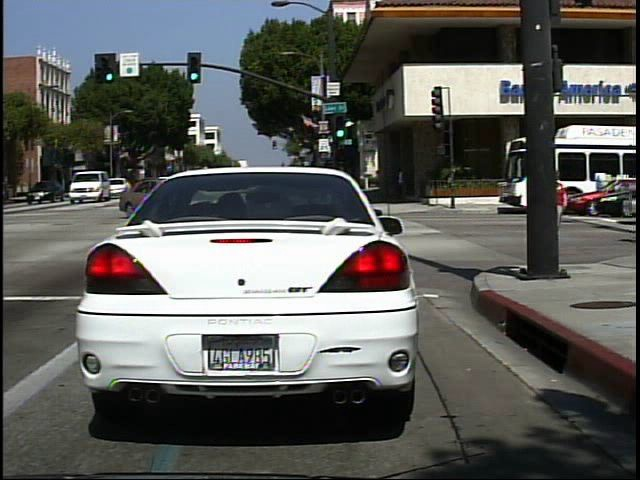person: (549, 168, 573, 245)
